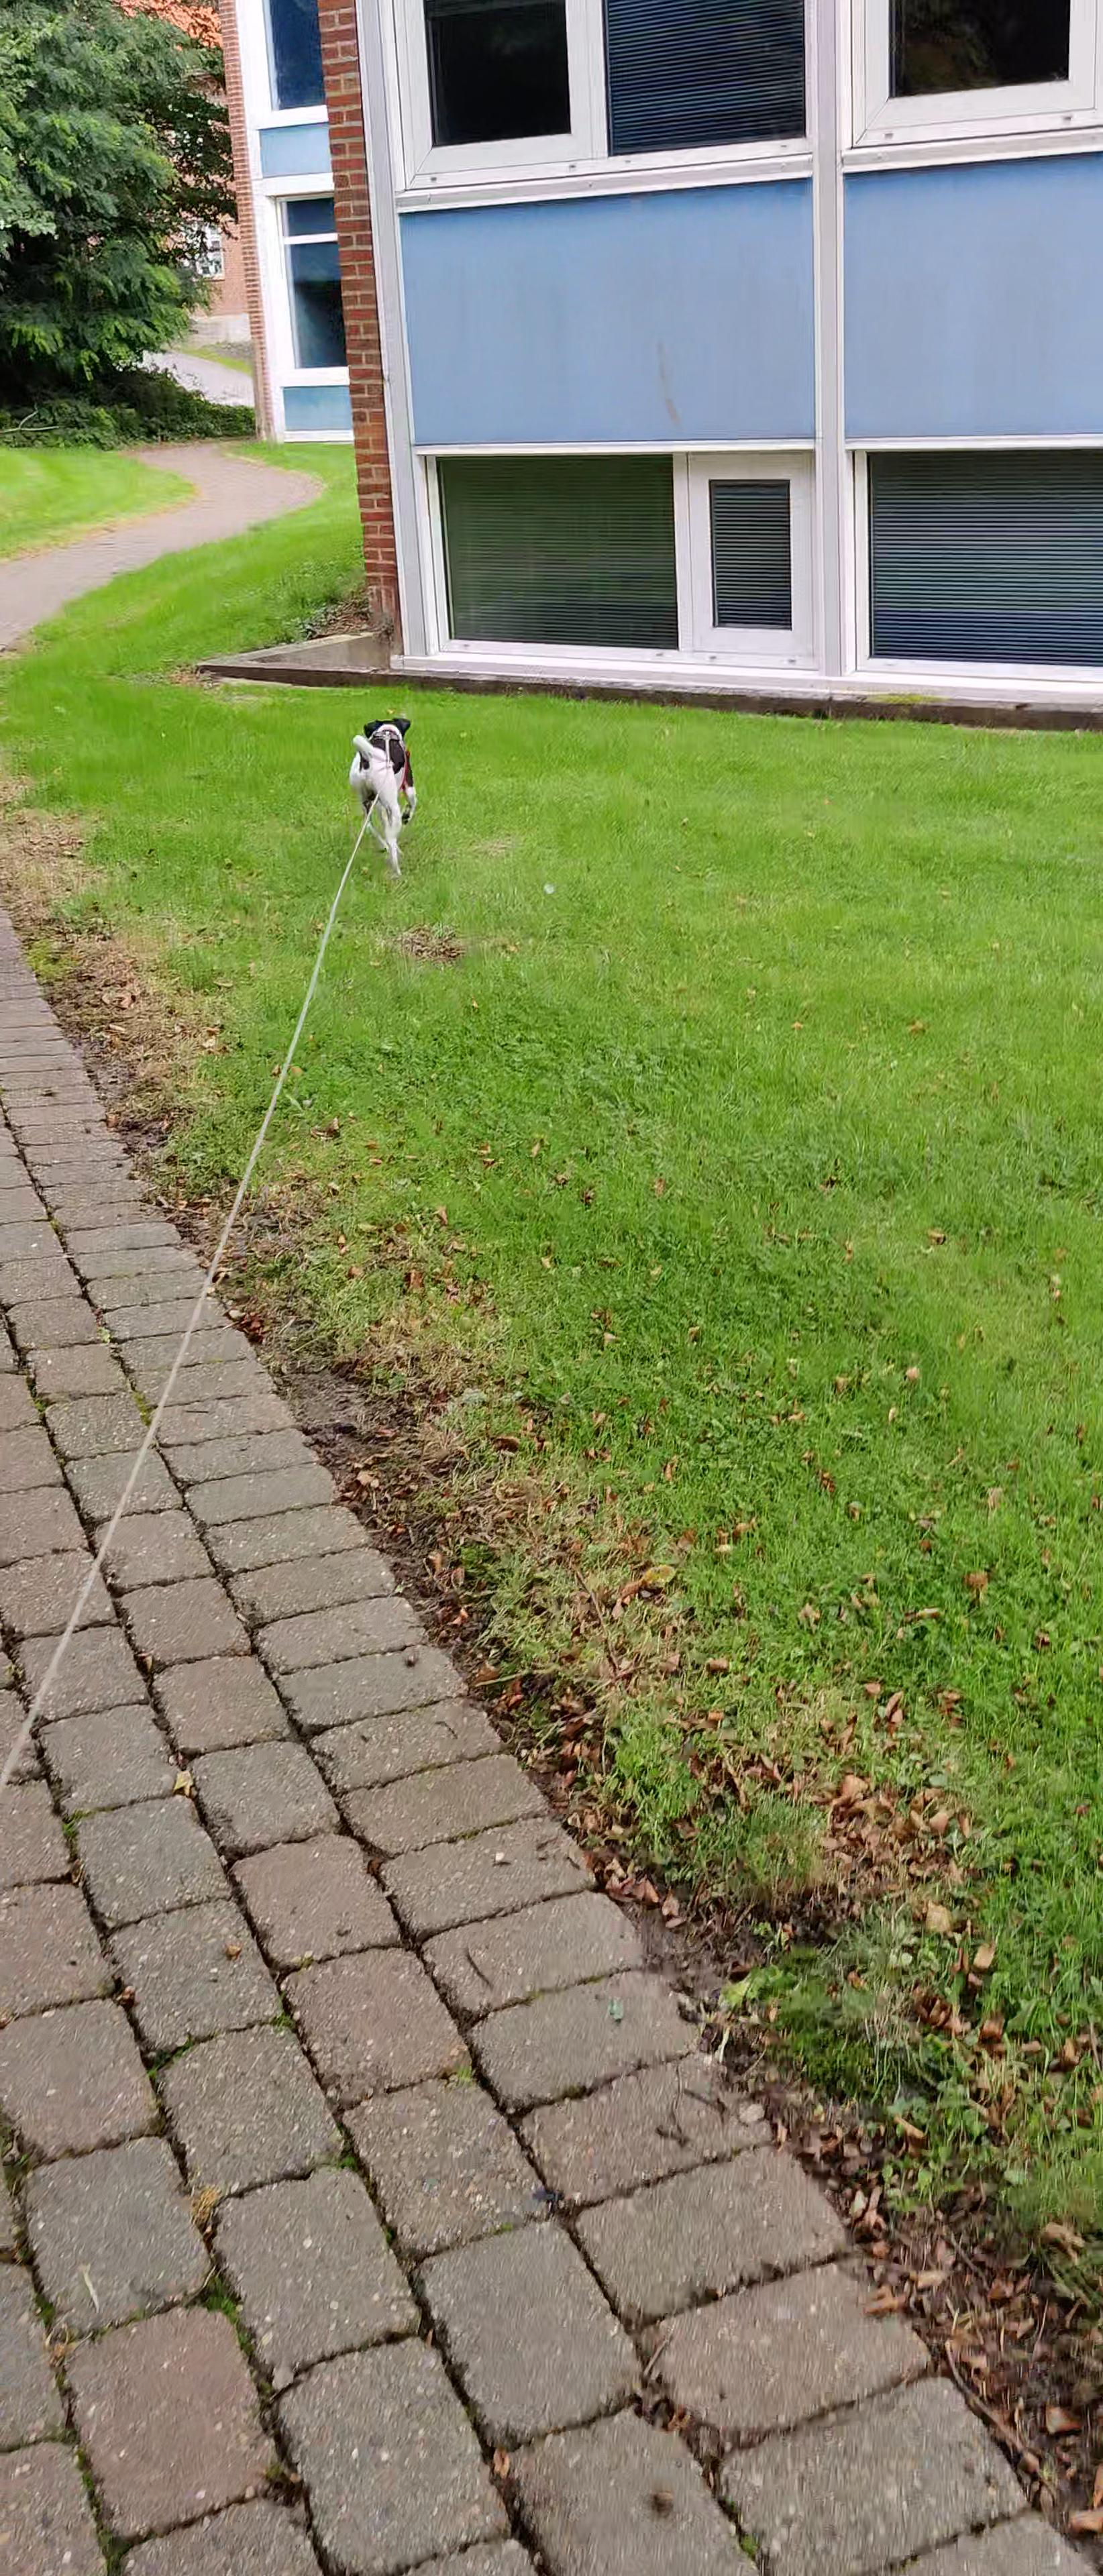Dog: (337, 705, 431, 885)
